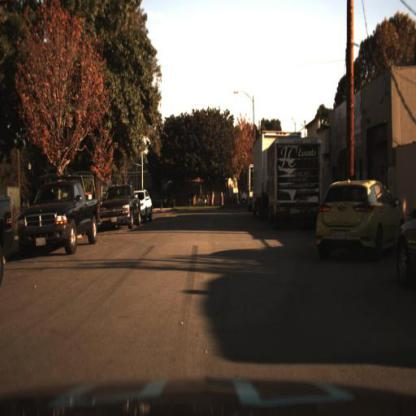car: (10, 171, 108, 265), (15, 169, 100, 262), (316, 179, 402, 263), (265, 135, 325, 221), (96, 180, 142, 234), (98, 182, 142, 231), (137, 185, 155, 224), (140, 182, 156, 223)
truck: (268, 134, 328, 234), (250, 125, 290, 227), (250, 123, 268, 225)
